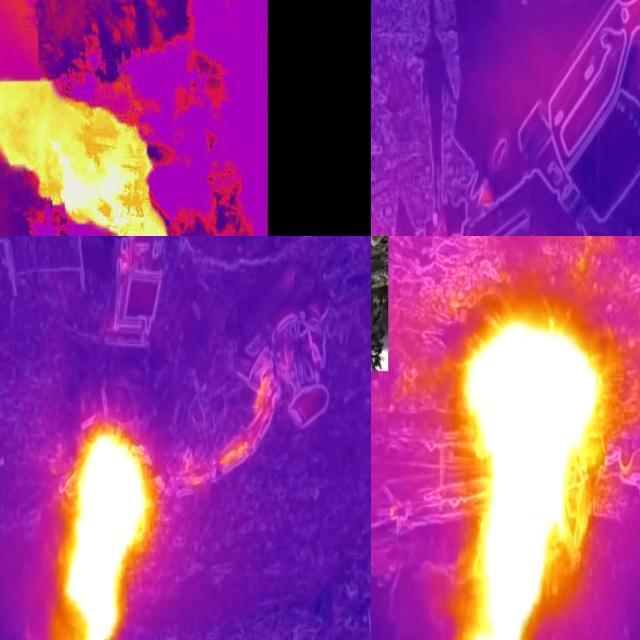fire: (462, 313, 603, 640), (1, 7, 194, 237), (61, 427, 147, 640)
